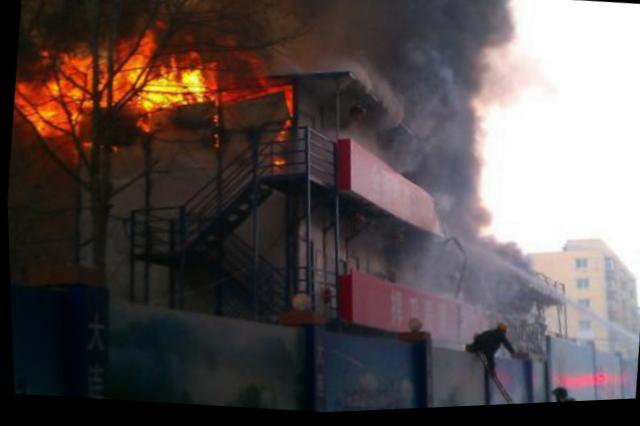fire: (137, 56, 214, 111), (11, 74, 72, 138), (105, 35, 153, 106), (52, 51, 95, 121)
